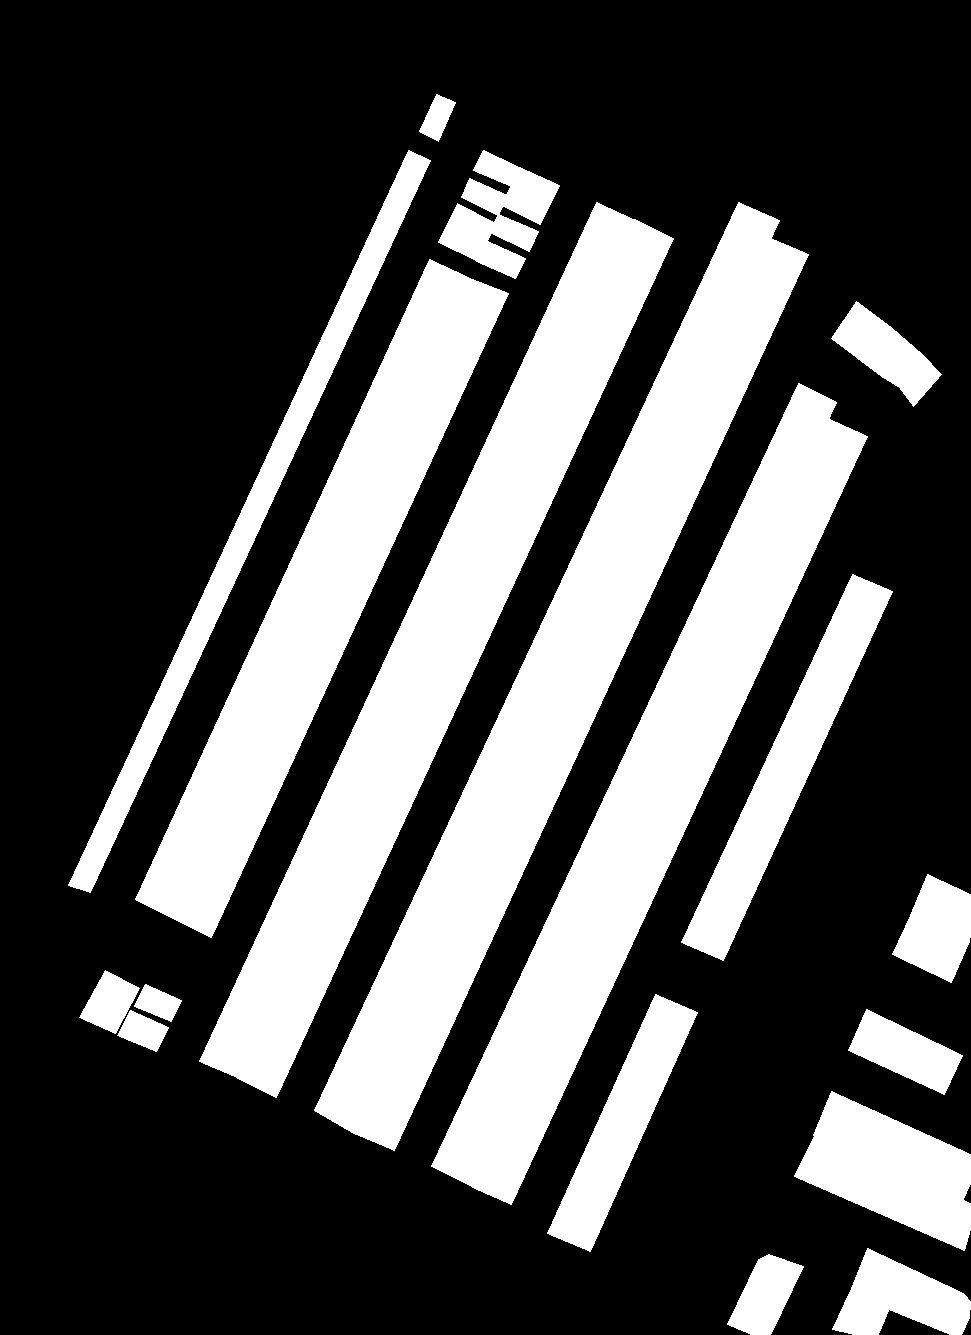parkingspot: (314, 202, 779, 1134), (354, 237, 808, 1151), (199, 202, 635, 1078), (237, 219, 673, 1097), (431, 384, 836, 1187), (472, 418, 867, 1204), (68, 150, 430, 892), (172, 277, 508, 937), (135, 259, 468, 918), (681, 574, 892, 960), (547, 994, 697, 1251), (794, 1135, 970, 1250), (813, 1091, 970, 1201), (831, 301, 941, 406), (849, 1248, 970, 1335), (848, 1009, 962, 1093), (727, 1254, 803, 1335), (892, 913, 969, 982), (910, 874, 970, 942), (79, 970, 139, 1033), (501, 167, 559, 224), (438, 203, 495, 261), (832, 1290, 889, 1334), (117, 1010, 168, 1051), (476, 240, 525, 278), (489, 214, 538, 251), (134, 984, 181, 1021), (419, 94, 455, 141), (461, 178, 507, 215), (473, 150, 519, 186)
